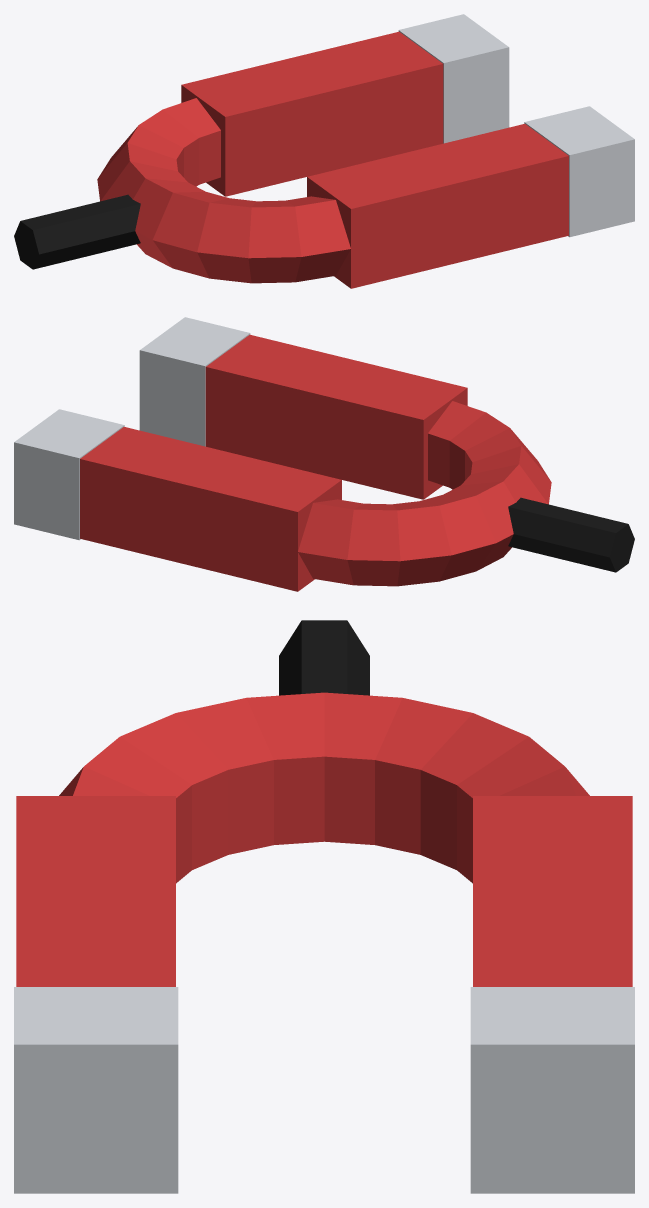
The model's file is giant_magnet.glb.
3 views of the same model, one above another, from view 1: azimuth 30°, elevation 25°; view 2: azimuth 150°, elevation 25°; view 3: azimuth 270°, elevation 25° (orthographic). The views are drawn at different scales.
Parts seen in each view (by area): view 1: arm_magnet_red, bend_magnet_red, tip_magnet_tip, handle_rubber_black; view 2: arm_magnet_red, bend_magnet_red, tip_magnet_tip, handle_rubber_black; view 3: tip_magnet_tip, arm_magnet_red, bend_magnet_red, handle_rubber_black.
Boxes of the visible parts, x1,y1,x2,y2 form: arm_magnet_red: (181, 31, 568, 288); bend_magnet_red: (97, 98, 350, 283); tip_magnet_tip: (398, 14, 634, 237); handle_rubber_black: (14, 194, 140, 269); arm_magnet_red: (80, 334, 467, 591); bend_magnet_red: (298, 401, 551, 586); tip_magnet_tip: (14, 317, 250, 540); handle_rubber_black: (508, 497, 634, 572); tip_magnet_tip: (14, 987, 634, 1193); arm_magnet_red: (16, 796, 632, 986); bend_magnet_red: (59, 692, 589, 883); handle_rubber_black: (279, 620, 369, 695).
Size of the model in its own units: 0.48 by 0.072 by 0.272.
